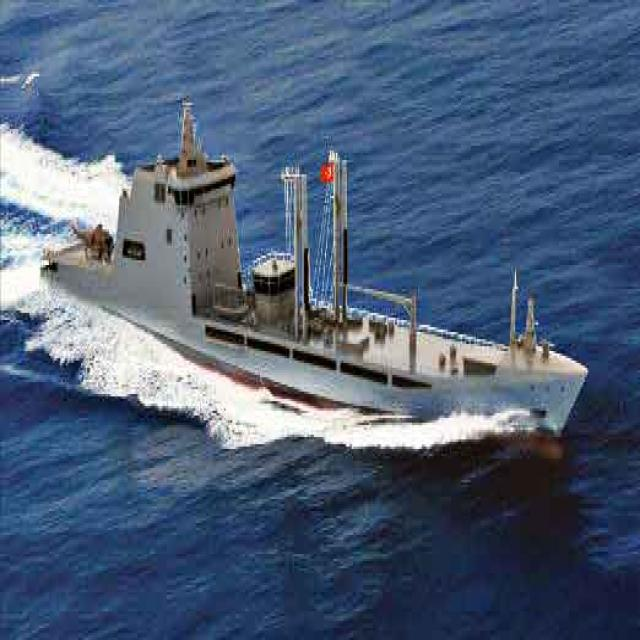Tanker-Moawin-Class-PAK: (40, 94, 588, 480)
